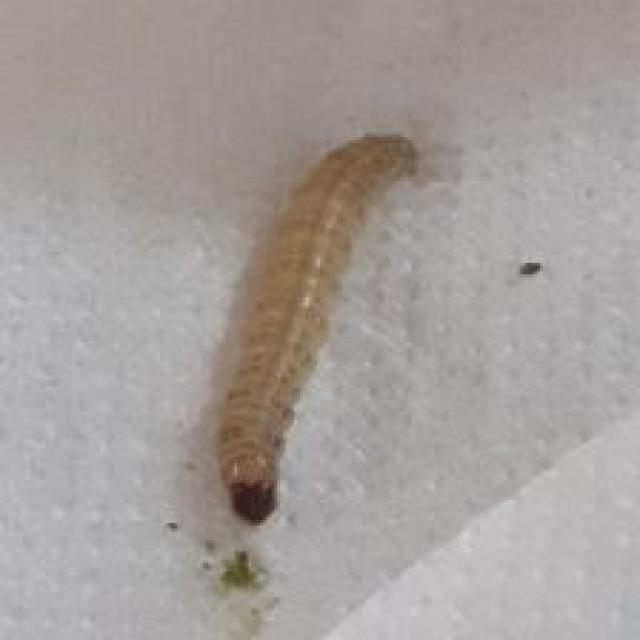white mucus: (170, 106, 446, 535)
